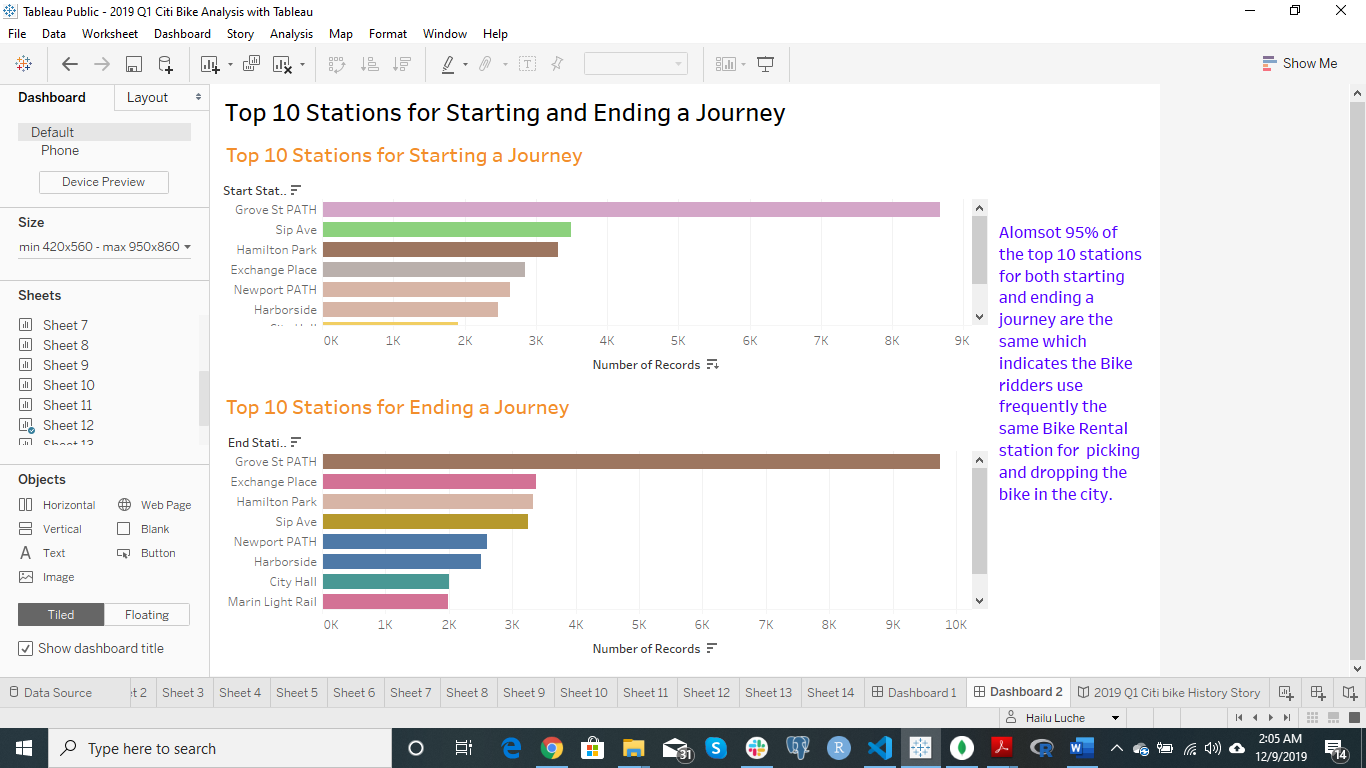

What the dashboard file says about the page in this screenshot:
{"tool":"tableau","page":{"name":"Dashboard 2","canvas":[1000,1000],"units":"permille","ordinal":1},"visuals":[{"type":"title","box":[8.4,13.5,814.7,69.1]},{"type":"text","box":[823.2,13.5,168.4,919.1]},{"type":"worksheet","title":"Sheet 13","mark":"Automatic","rows":["start station name"],"cols":["Number of Records"],"box":[8.4,82.6,814.7,424.5]},{"type":"worksheet","title":"Sheet 12","mark":"Automatic","rows":["end station name"],"cols":["Number of Records"],"box":[8.4,507.1,814.7,479.4]}]}

Visuals, with their boxes on the dashboard's canvas, which has no fixed pixel size, in thousandths of its width and height (x1, y1, x2, y2). These are canvas units, not pixel positions in the 1366x768 screenshot, which may show the page scaled, cropped or inside an application window:
title: locate(8, 14, 823, 83)
text: locate(823, 14, 992, 933)
"Sheet 13" worksheet: locate(8, 83, 823, 507)
"Sheet 12" worksheet: locate(8, 507, 823, 986)
